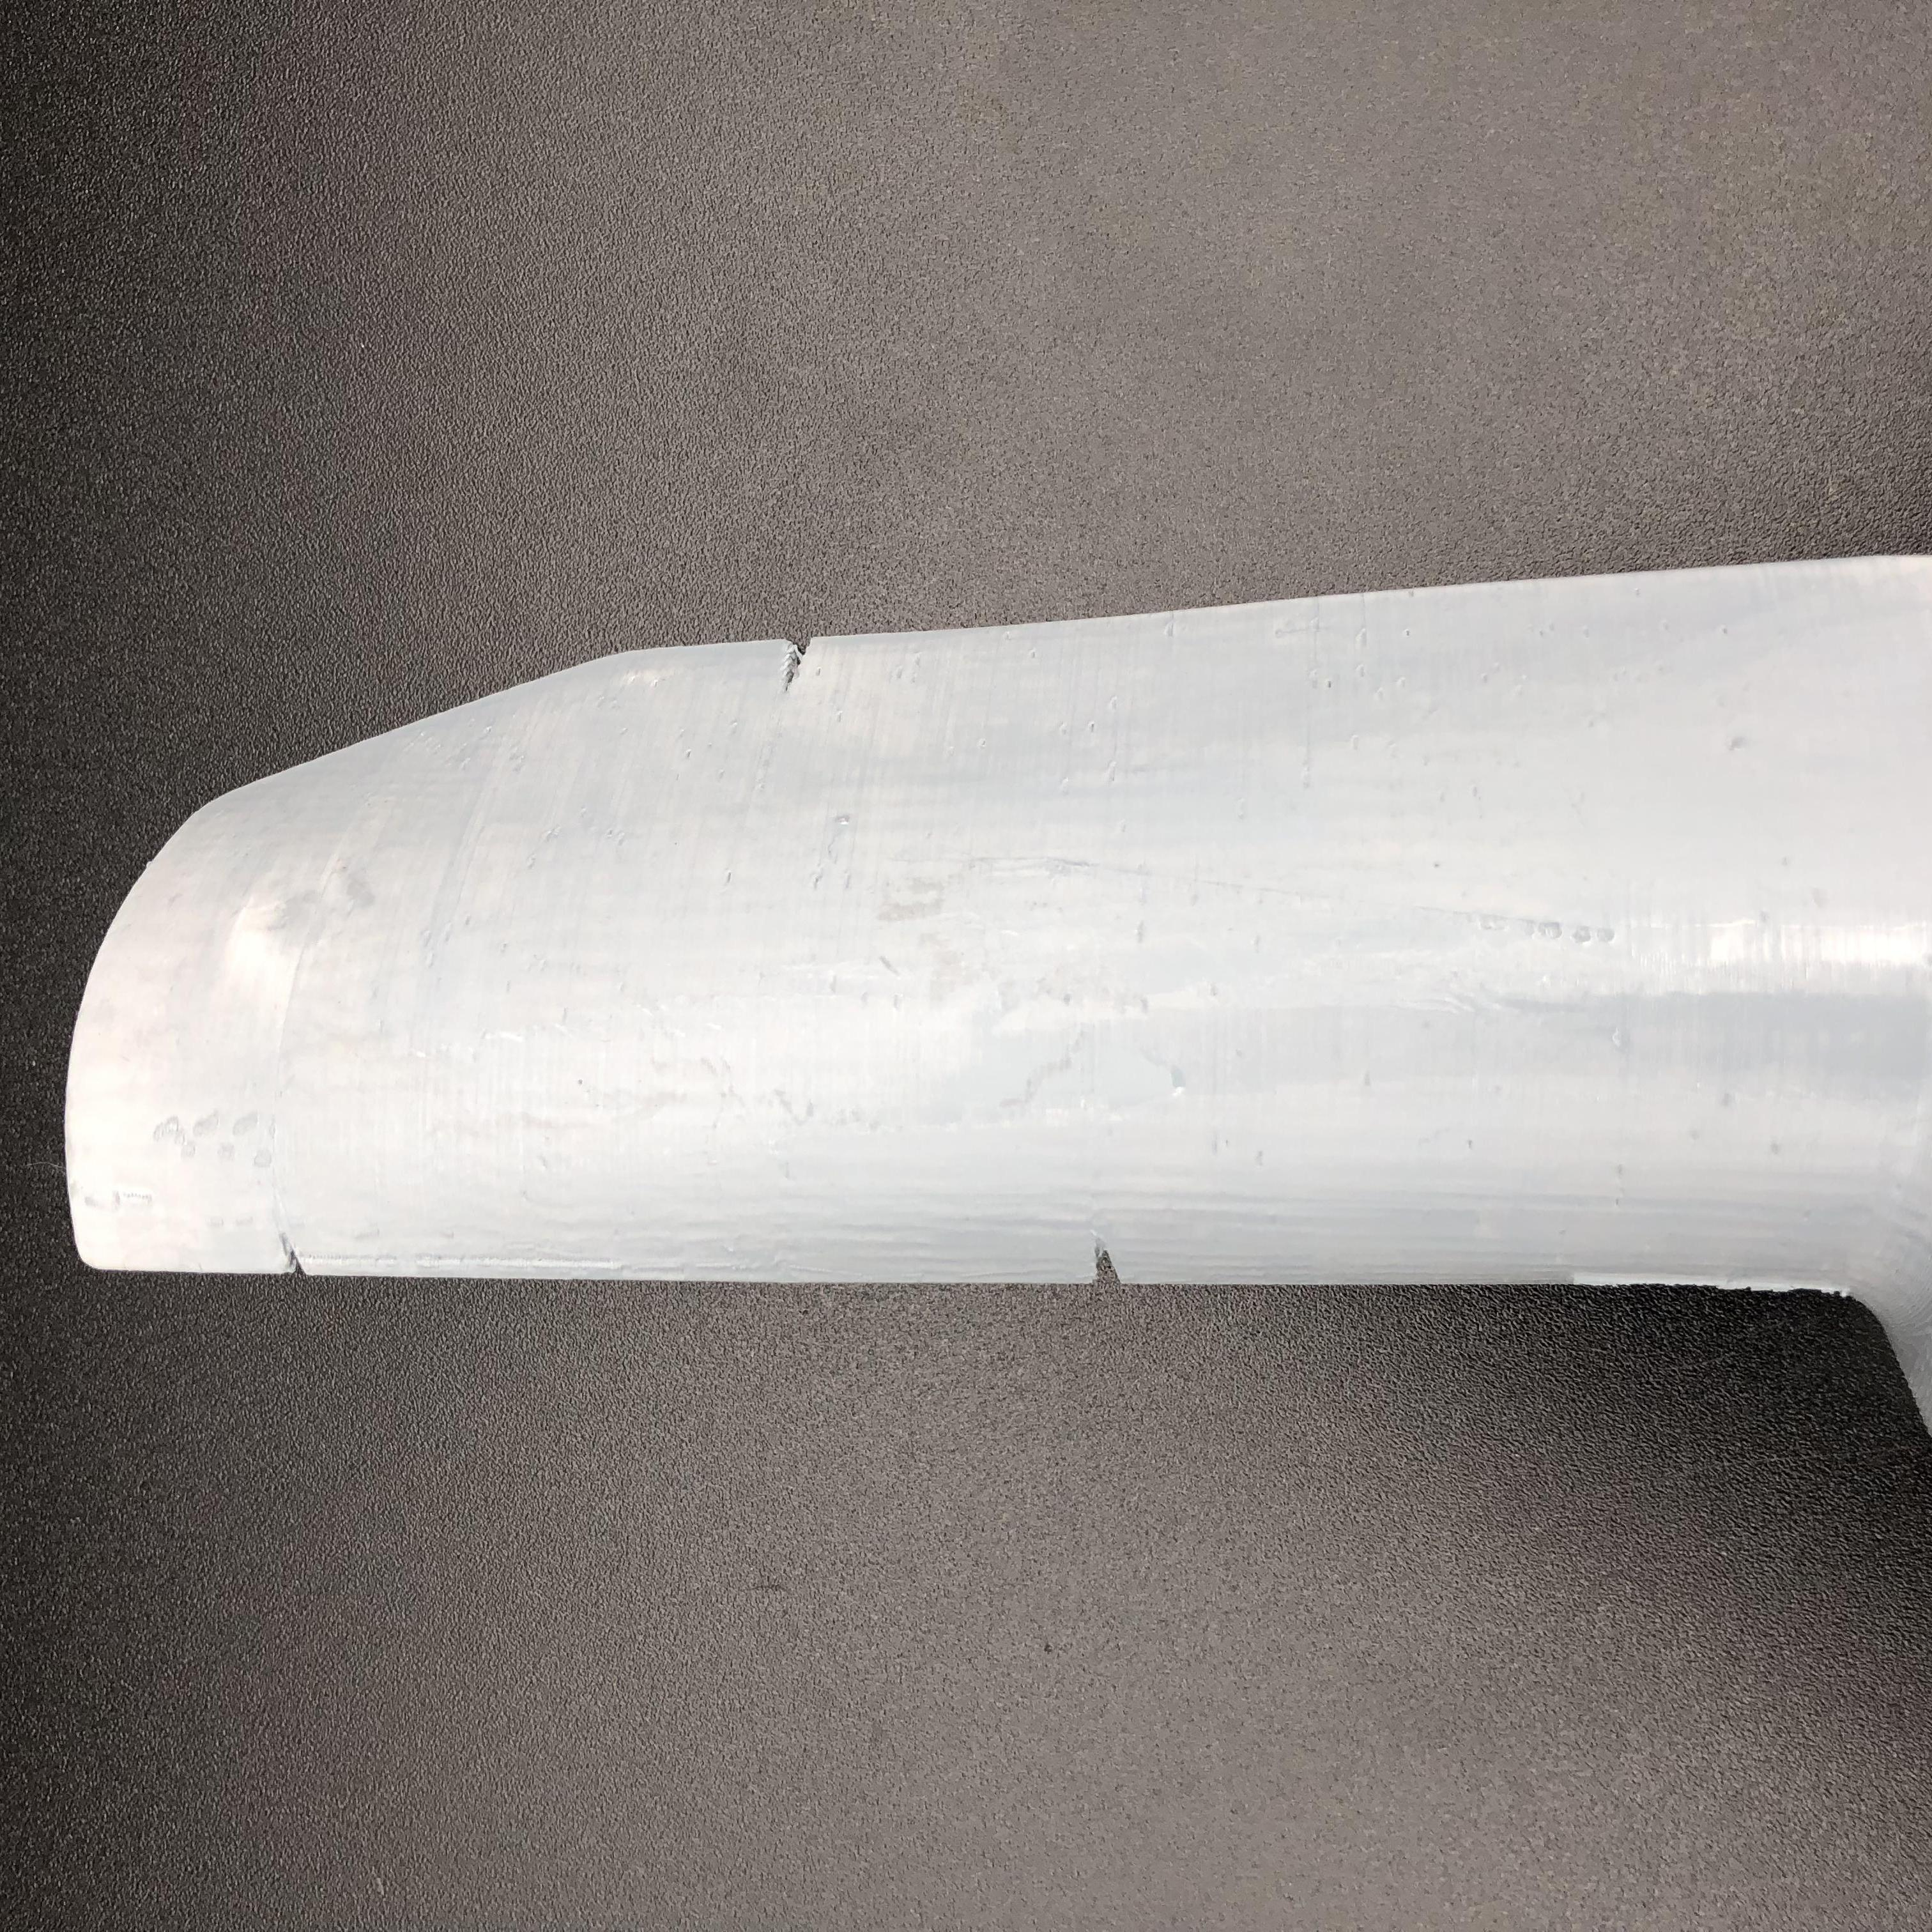groove: (1079, 1237, 1134, 1283), (777, 644, 832, 685), (274, 1235, 322, 1274)
